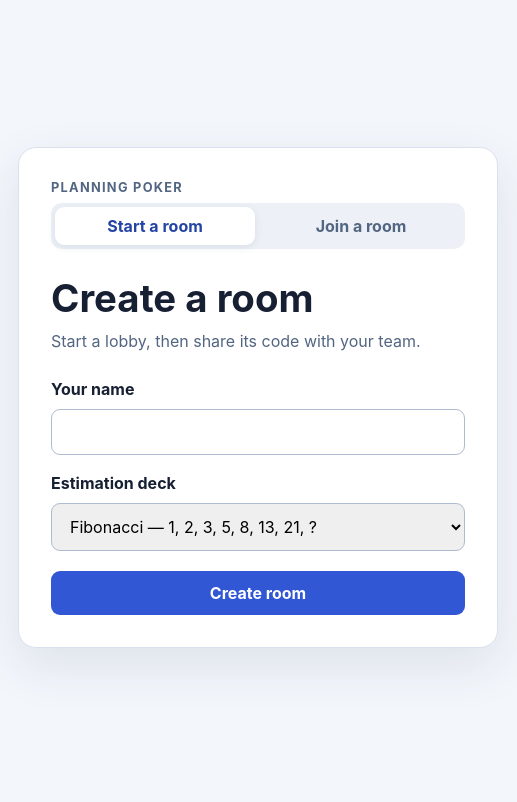
it: room entry › lets the host choose a deck preset that is used for voting
In the field labelled "Your name": (258, 432) [51,408,465,454], type "Alex"
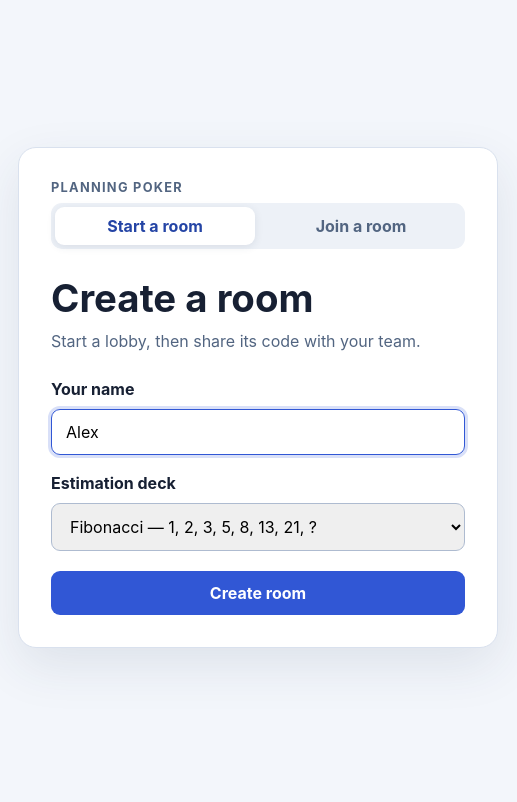
Select "T-shirt — XS, S, M, L, XL, ?" in the dropdown labelled "Estimation deck": (258, 526) [51,502,465,550]
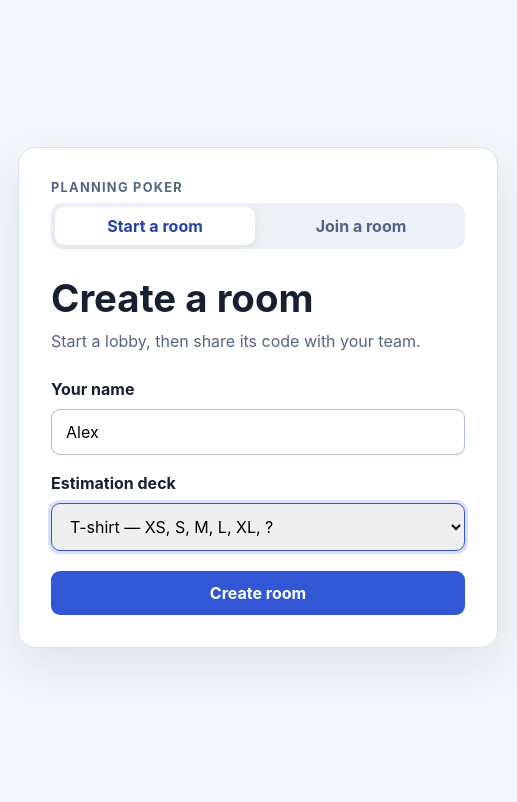
Click the button "Create room": (258, 592) [51,570,465,614]
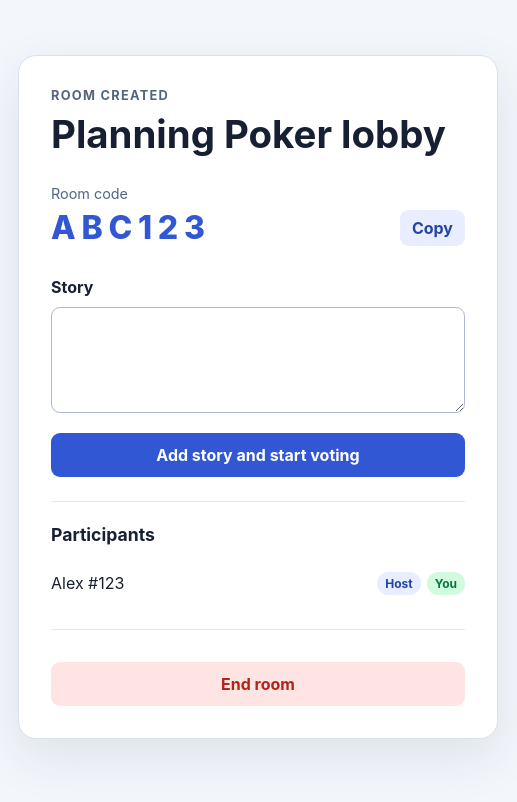
In the text box labelled "Story": (258, 360) [51,307,465,413], type "Estimate visual polish"
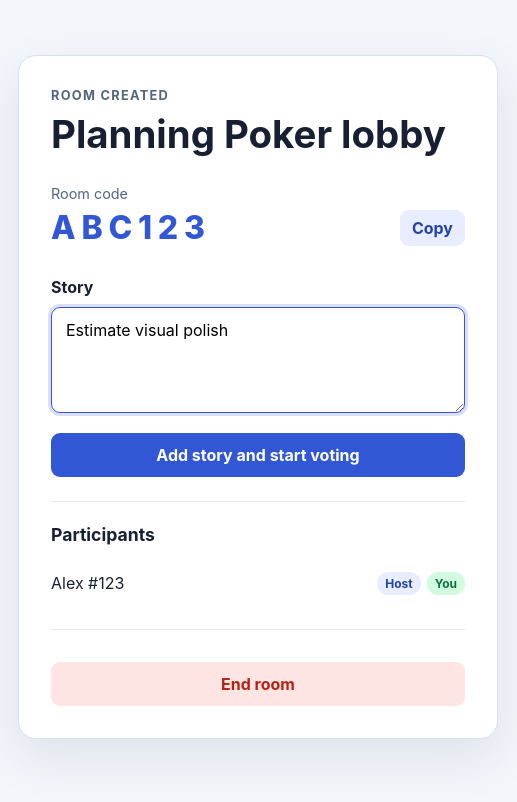
Click the button "Add story and start voting": (258, 455) [51,433,465,477]
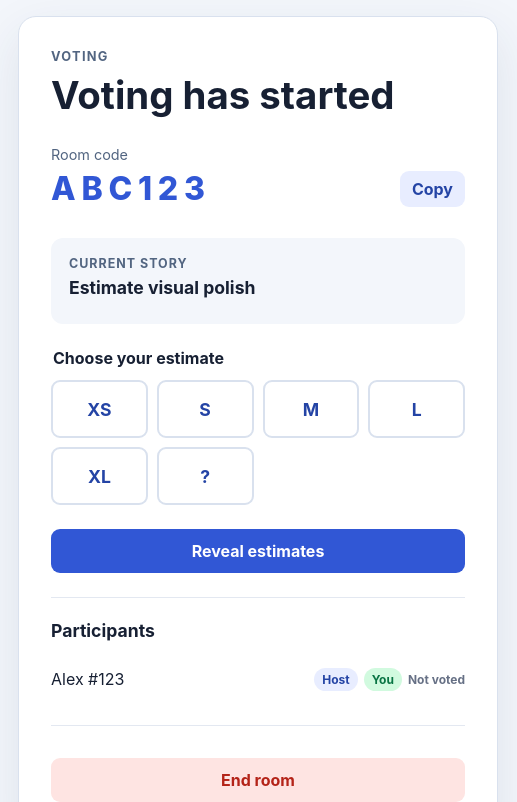
expect the button "13" is not shown: met
expect the button "XS" is shown: met, box [51,380,148,438]
expect the button "XL" is shown: met, box [51,447,148,505]
